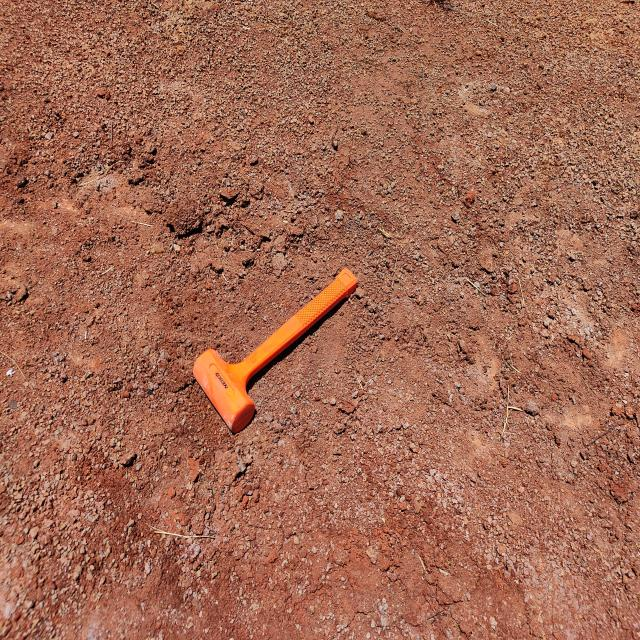Orange_hammer: (192, 266, 357, 434)
